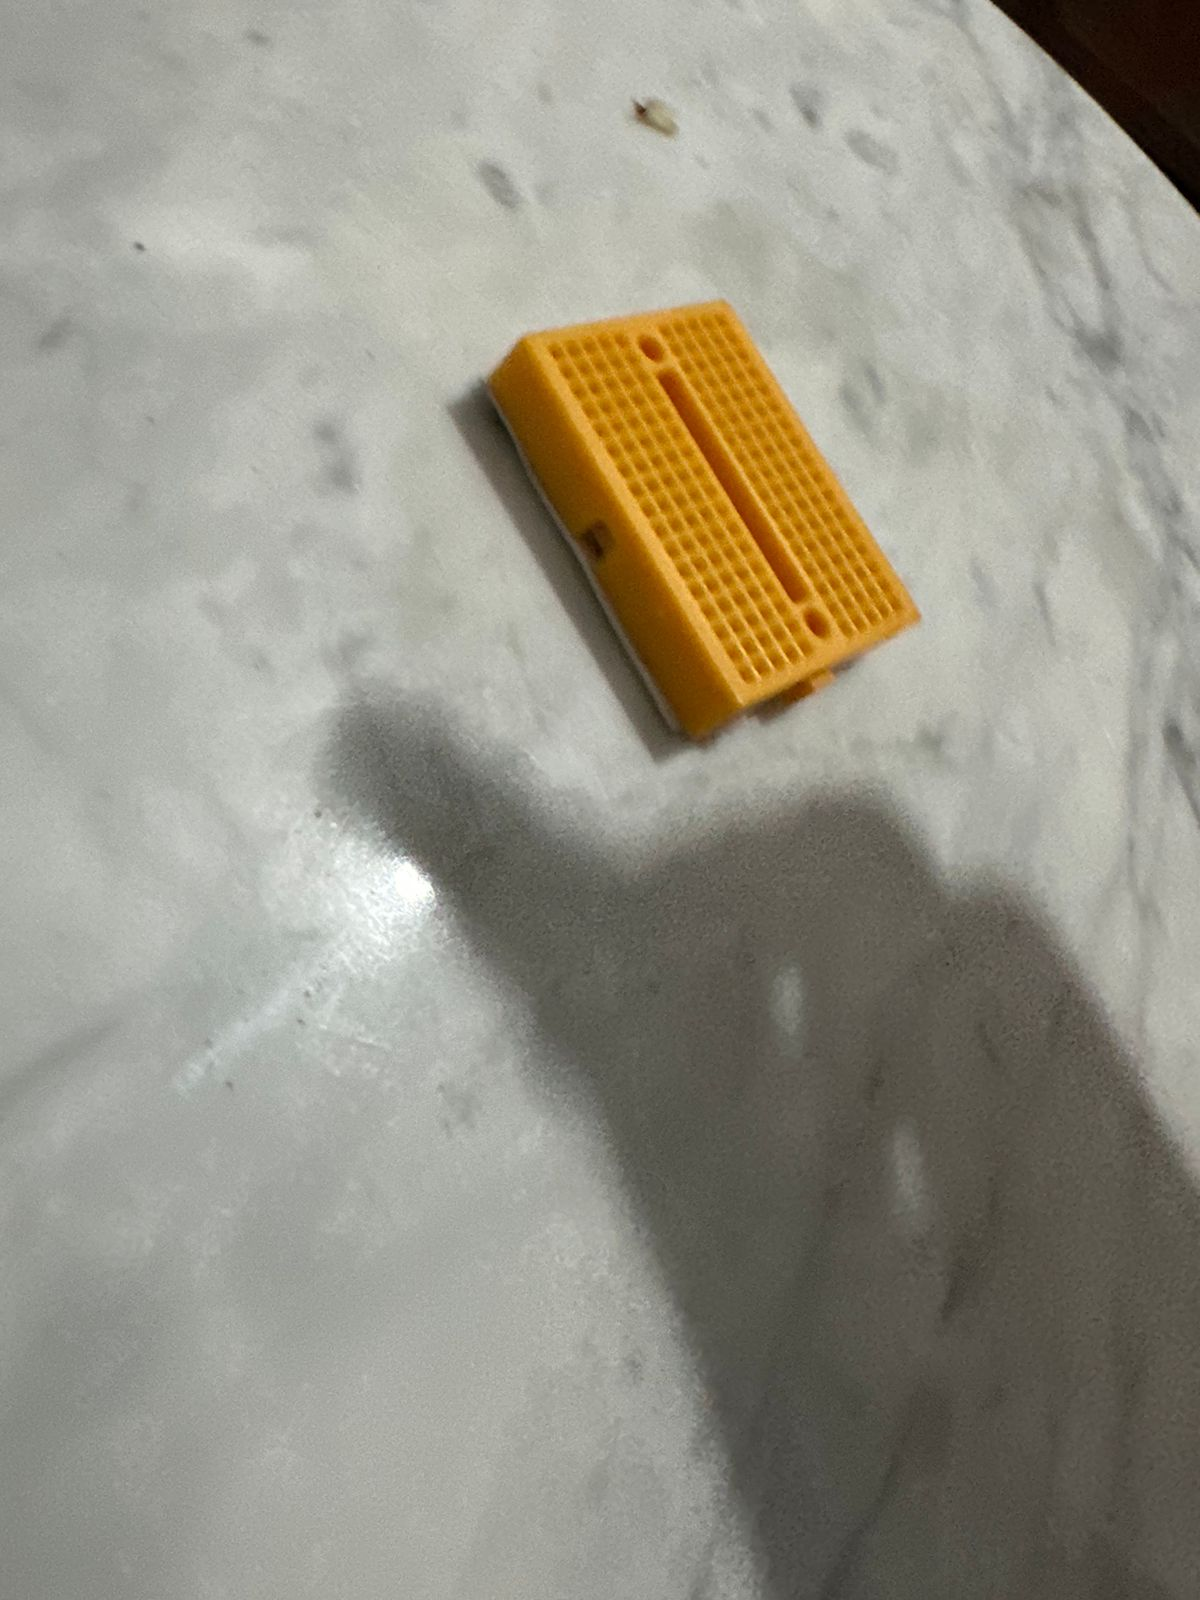breadboard: (487, 285, 937, 737)
